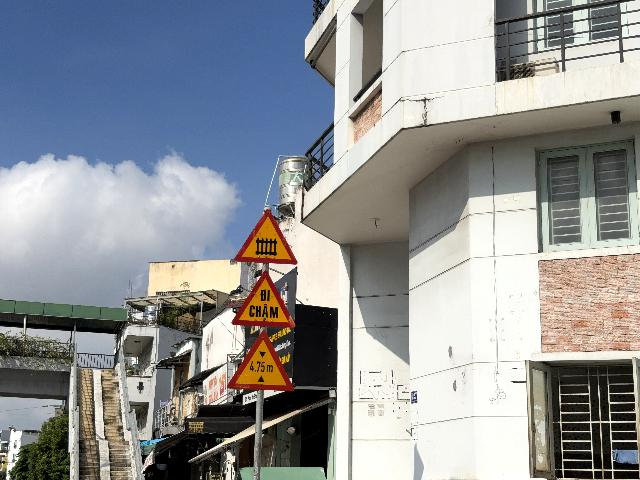chieu-cao-tinh-khong-thuc-te: (227, 330, 294, 391)
di-cham: (231, 270, 296, 328)
noi-giao-nhau-voi-duong-sat-co-rao-chan: (234, 208, 298, 265)
